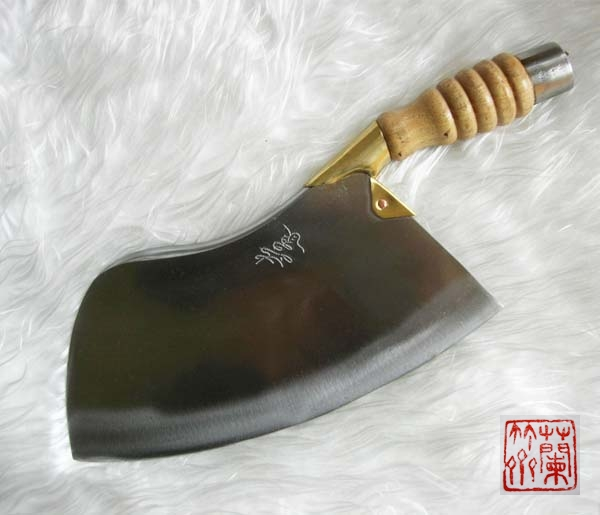knief: (53, 41, 574, 470)
